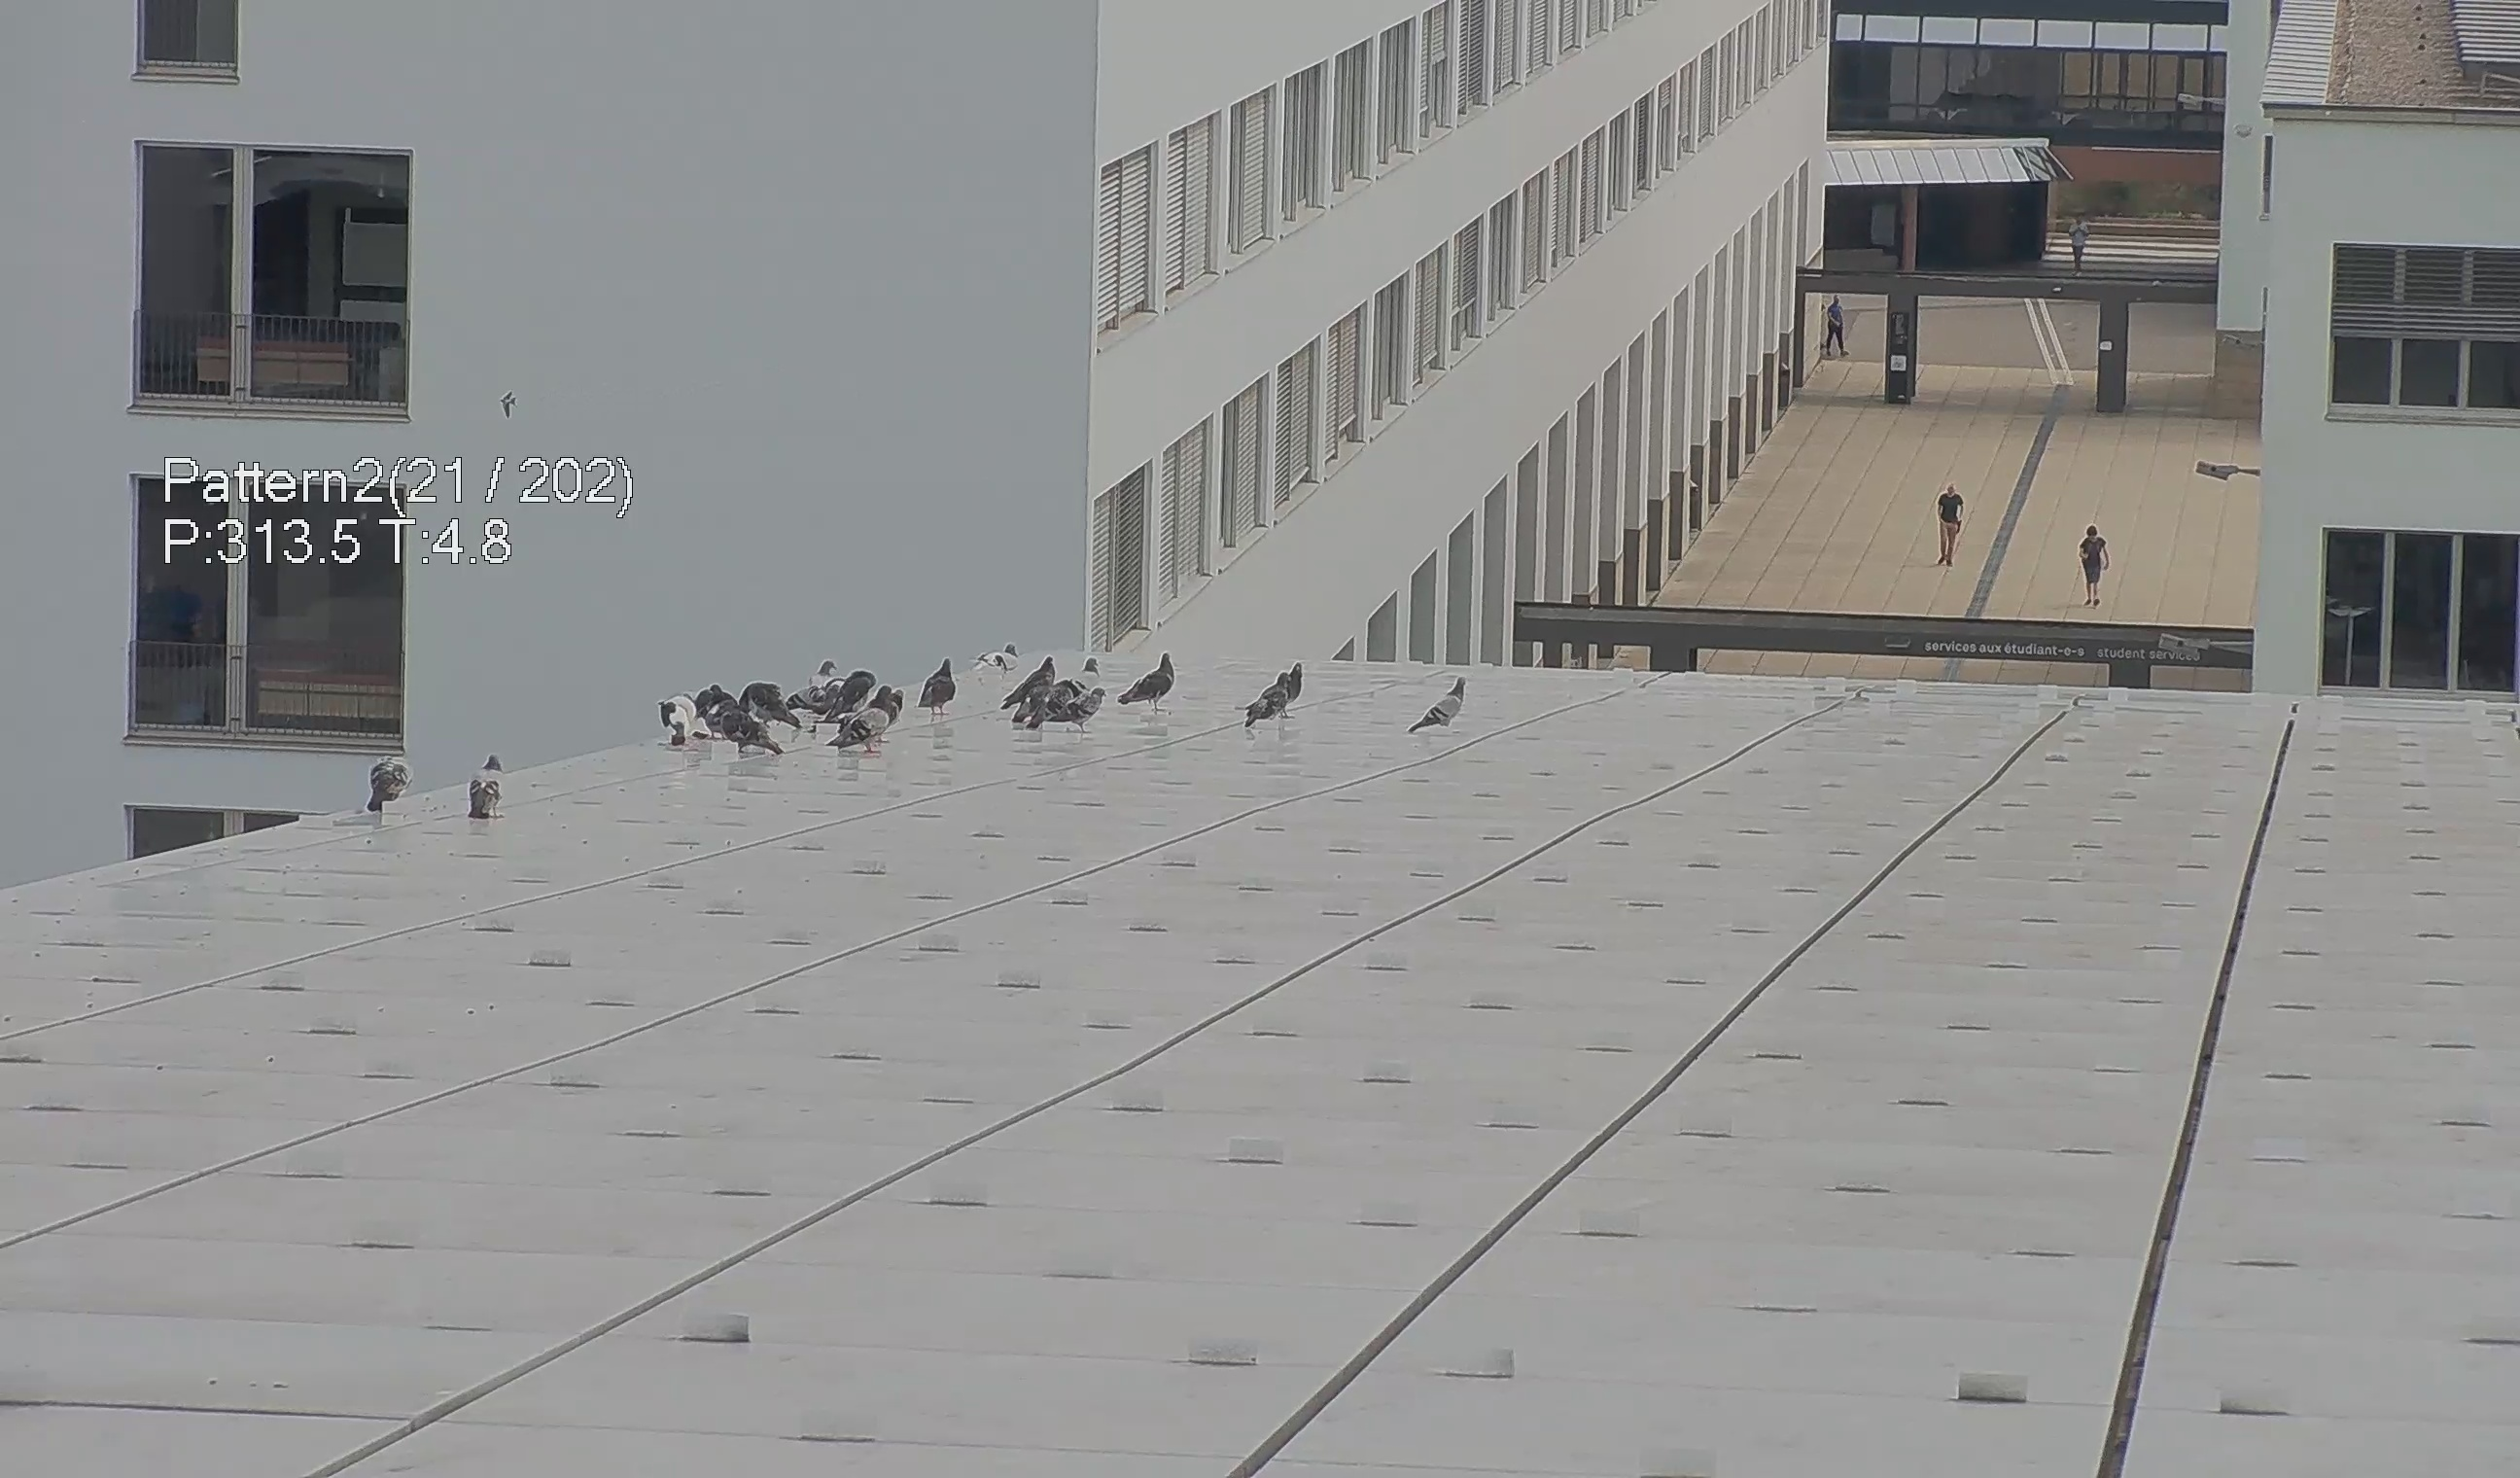Pigeon: (353, 750, 426, 815), (1409, 674, 1479, 737), (1120, 649, 1184, 716), (733, 677, 807, 734), (462, 751, 510, 829), (1004, 653, 1067, 711), (1046, 681, 1111, 737), (717, 709, 786, 762), (1242, 658, 1289, 732), (914, 648, 962, 721), (828, 704, 902, 750), (737, 676, 802, 725), (832, 667, 885, 709), (971, 637, 1020, 681), (656, 693, 707, 735), (693, 679, 739, 723), (1064, 653, 1104, 702), (807, 651, 841, 688), (1282, 658, 1307, 704)
